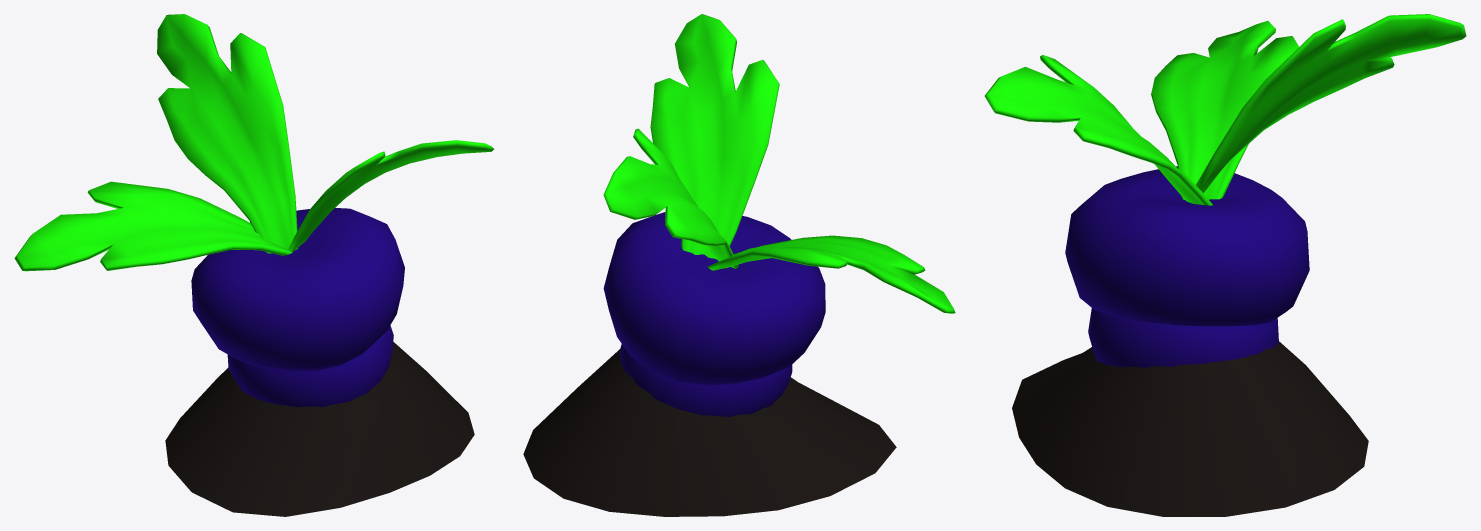
File: plant_grown.FBX
3 views of the same model, side by side, from view 1: azimuth 30°, elevation 25°; view 2: azimuth 150°, elevation 25°; view 3: azimuth 270°, elevation 25° (orthographic). The views are drawn at different scales.
Parts seen in each view (by area): view 1: Carrot; view 2: Carrot; view 3: Carrot.
Part boxes in pixels (x1=…): Carrot: x1=14, y1=14, x2=493, y2=516; Carrot: x1=523, y1=14, x2=955, y2=516; Carrot: x1=984, y1=14, x2=1466, y2=516.
Bounding box in the file's own units: 107 × 88.62 × 93.67.
